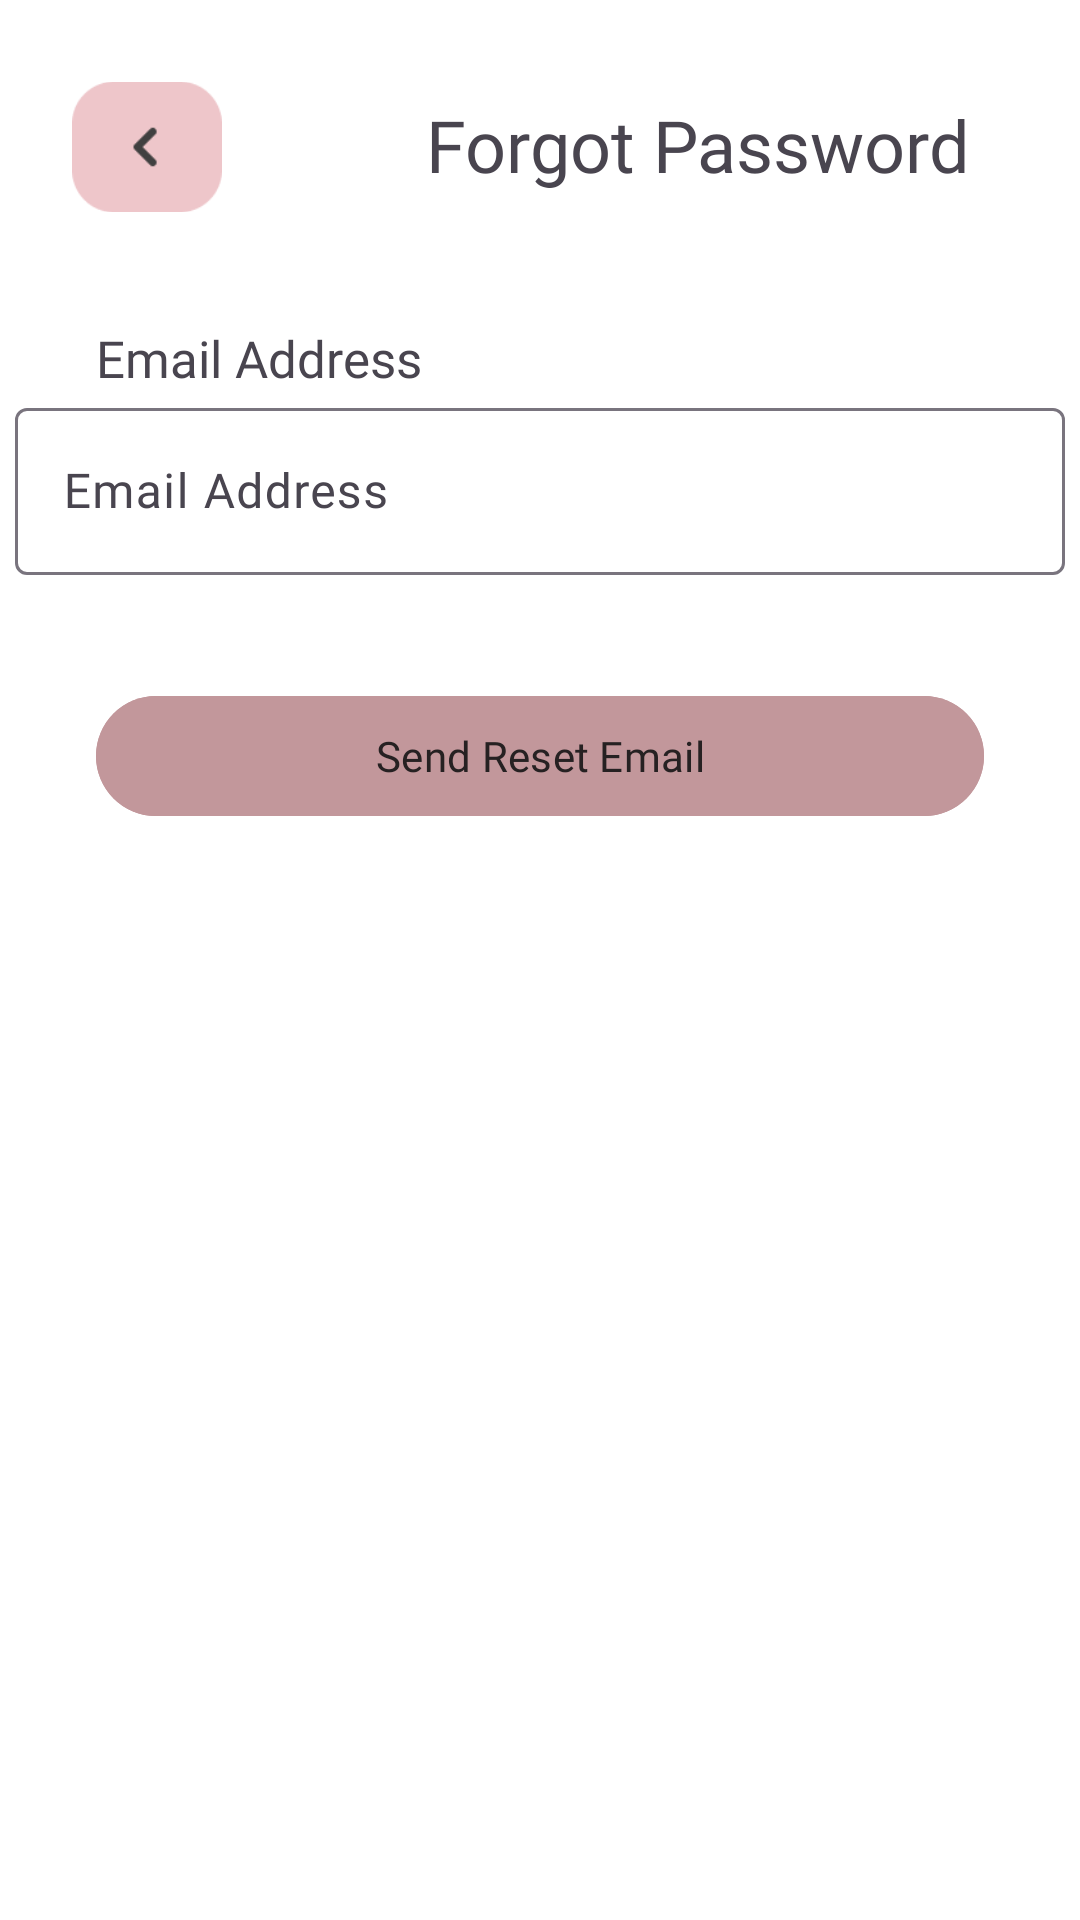

Point at icon controls on the screen. Image size 1080*1920, points as (x,y).
Back Button: (147,147)
